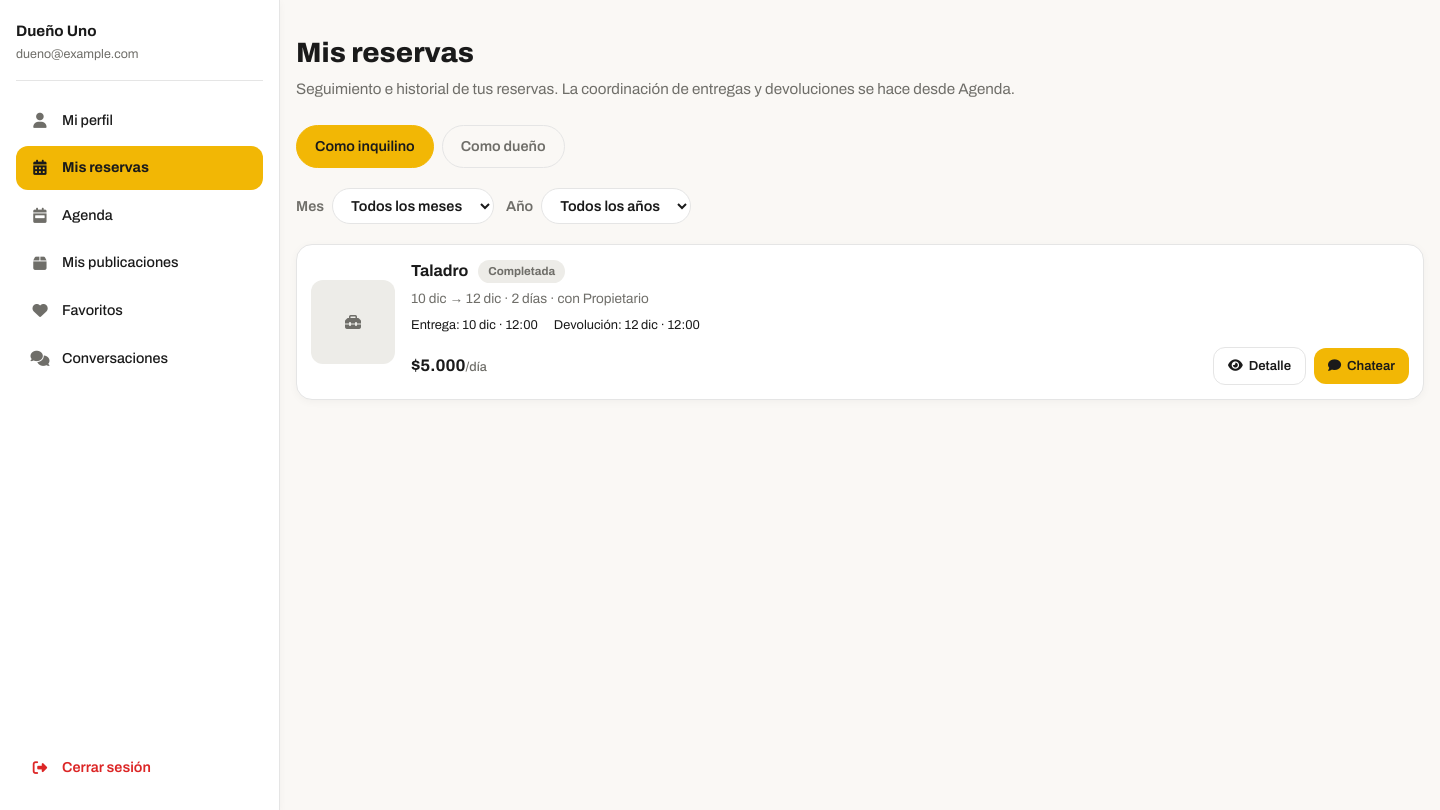
Scenario: Dashboard — hidratación del estado de calificación › Mis reservas con rated:false no muestra `Calificar`; Agenda sí lo ofrece sin re-verificar
The width and height of the screenshot is (1440, 810).
Expected: the heading "Taladro" is shown, left=411, top=259, right=468, bottom=283
Expected: the button "calificar" is not shown
Agenda conserva la acción: abre directo sin otro GET mine.
Click the button "Agenda" at (140, 216), box left=16, top=194, right=263, bottom=237
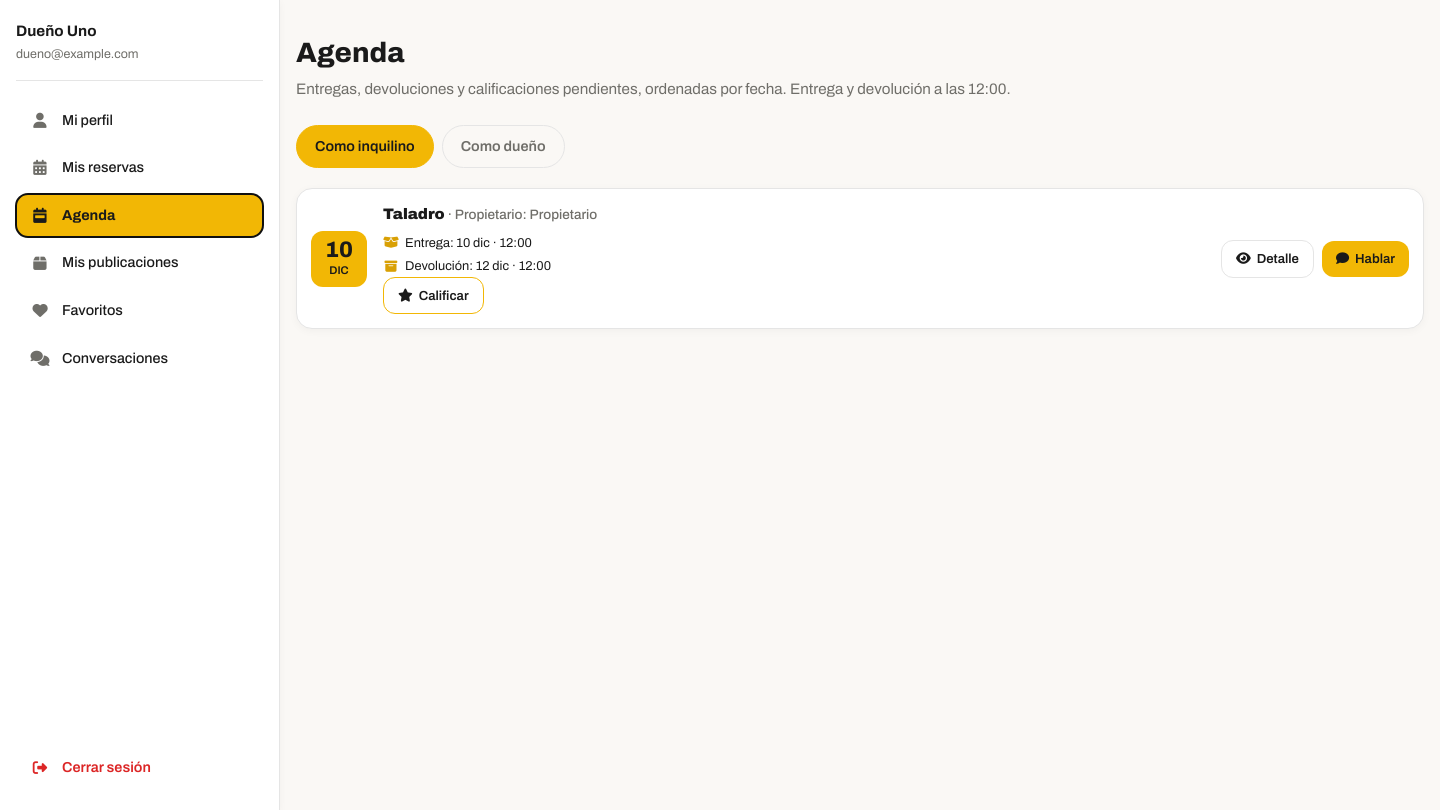
Click the button "Calificar" at (433, 295), box left=383, top=277, right=484, bottom=314
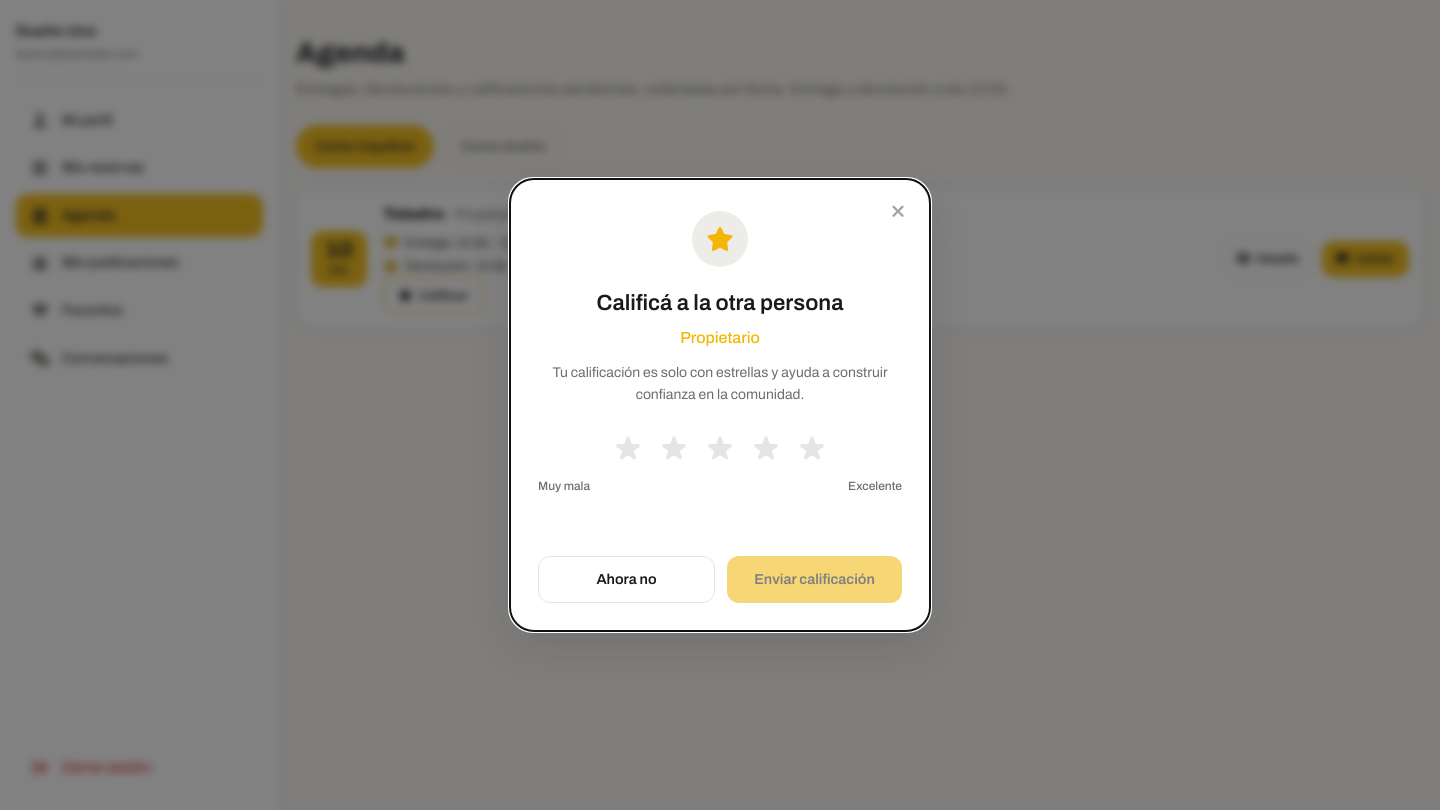
Expected: the dialog is shown, left=510, top=179, right=930, bottom=631
